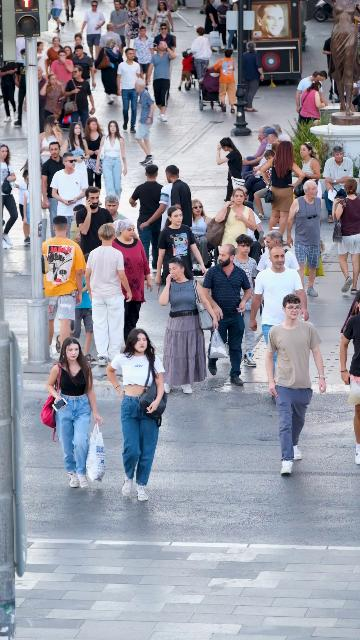person: (264, 293, 327, 476), (106, 329, 166, 502), (44, 336, 104, 490), (158, 257, 220, 395), (203, 244, 253, 387), (84, 223, 133, 367), (42, 216, 87, 356), (249, 247, 310, 348), (111, 219, 153, 343), (155, 206, 209, 291), (286, 180, 324, 300), (259, 140, 306, 232), (128, 164, 165, 274), (231, 234, 260, 367), (139, 165, 194, 234), (49, 152, 89, 240), (242, 127, 282, 215), (215, 188, 261, 262), (332, 178, 360, 297), (76, 186, 114, 264), (94, 120, 127, 202), (323, 146, 356, 223), (199, 49, 237, 113), (146, 41, 176, 122), (69, 273, 96, 361), (40, 142, 66, 231), (65, 65, 97, 133), (116, 47, 141, 133), (256, 230, 300, 277), (133, 78, 156, 166), (189, 199, 216, 272), (0, 143, 18, 250), (215, 137, 244, 203), (63, 122, 91, 187), (95, 40, 123, 105), (80, 117, 105, 189), (241, 42, 265, 113), (244, 150, 275, 202), (80, 1, 106, 60), (295, 141, 321, 197), (295, 70, 328, 114), (299, 81, 328, 129), (133, 26, 154, 89), (191, 27, 213, 87), (38, 115, 63, 167), (41, 74, 66, 124), (242, 125, 270, 166), (102, 194, 128, 238), (109, 0, 129, 54), (72, 45, 96, 89), (123, 0, 143, 49), (151, 1, 175, 39), (150, 23, 176, 58), (51, 52, 75, 85), (99, 23, 123, 56), (178, 48, 196, 91), (70, 204, 88, 244), (45, 37, 64, 71), (203, 0, 218, 35), (137, 0, 153, 28), (36, 41, 48, 77), (271, 124, 291, 143), (71, 32, 84, 48), (63, 46, 75, 59)
